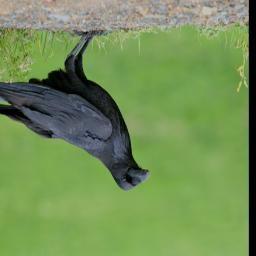Crow: (0, 28, 151, 192)
